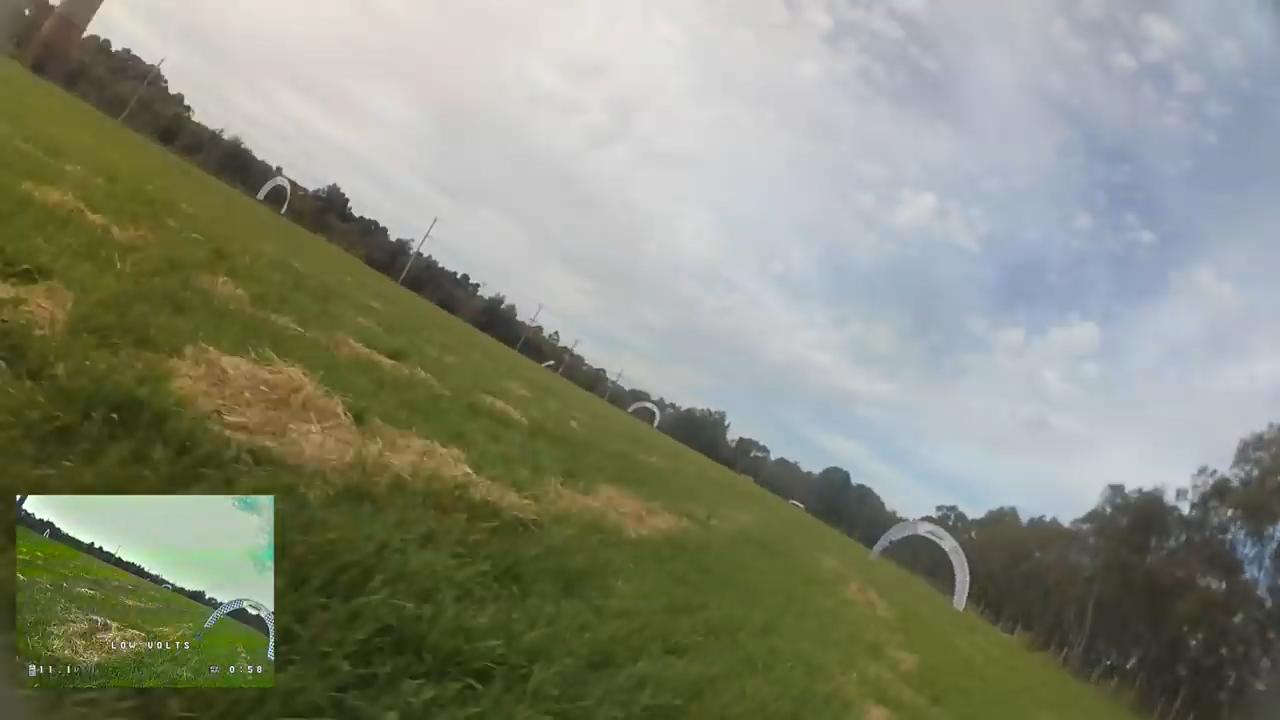gate: (870, 520, 973, 614), (253, 175, 291, 218), (628, 401, 666, 431)
